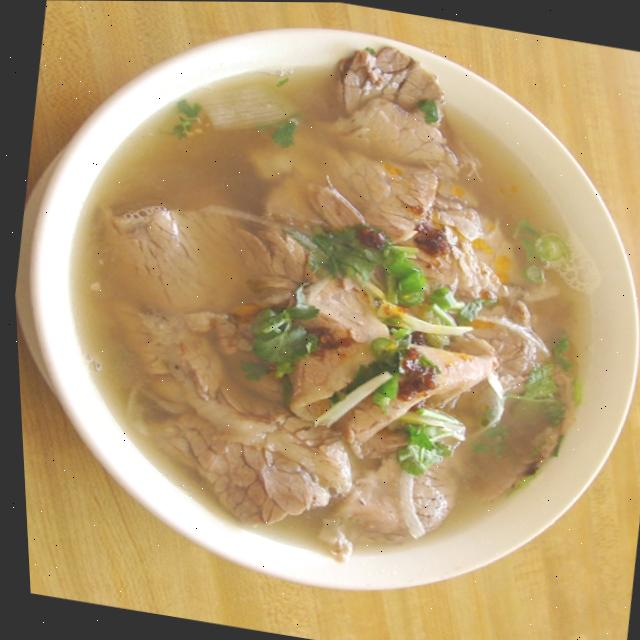面条主食: (0, 0, 640, 617)
